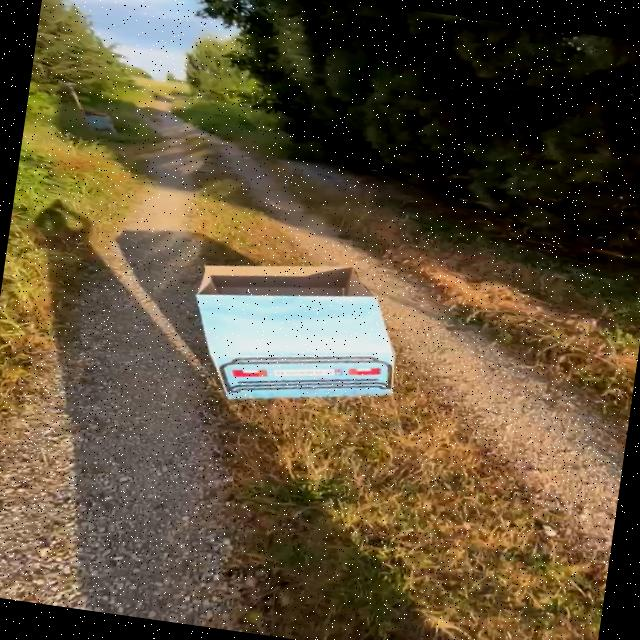blue_car: (139, 223, 453, 438)
